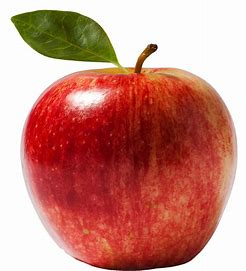apple: (15, 54, 239, 267)
